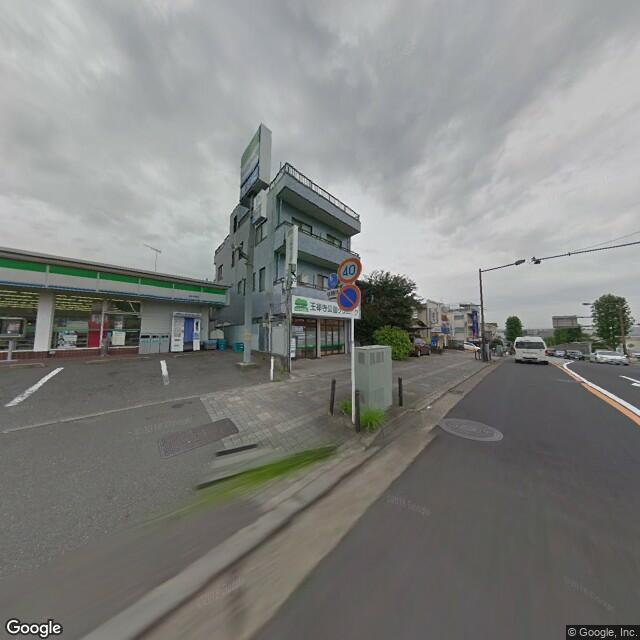family_mart: (1, 253, 229, 309), (235, 122, 264, 195)
